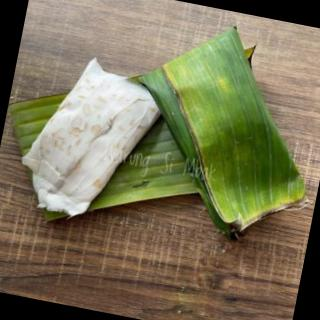Tempe: (11, 49, 167, 233)
